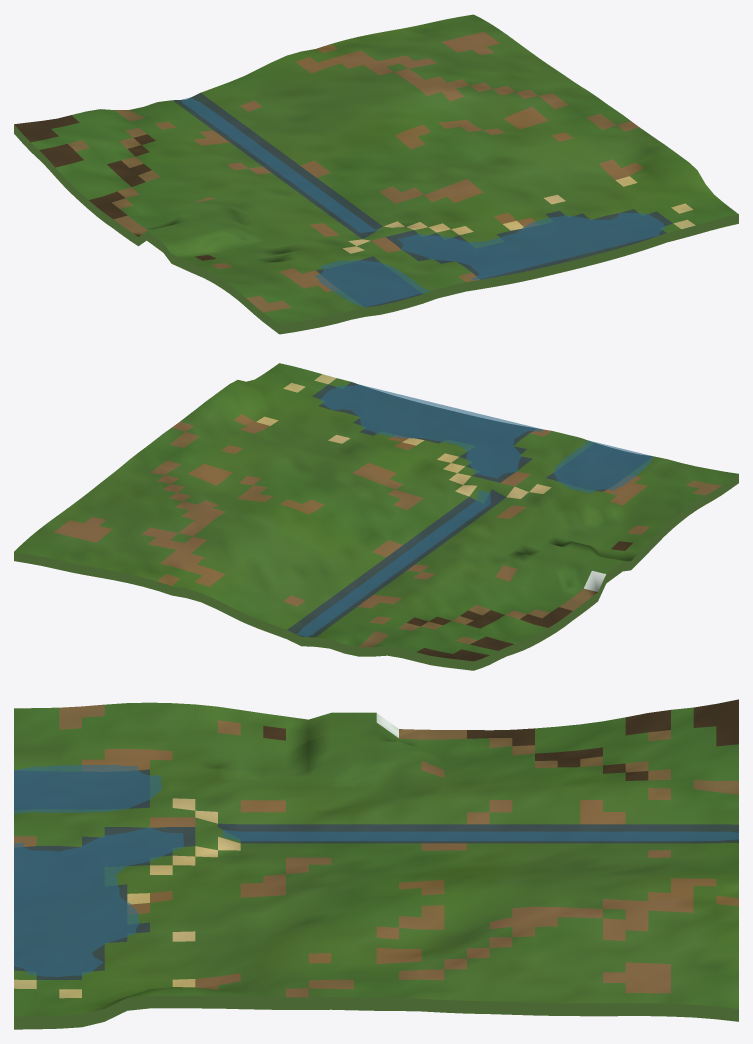
Rendered from chunk_2_6_lod1.glb.
The picture shows the model from 3 angles, top to bottom: view 1: azimuth 30°, elevation 25°; view 2: azimuth 150°, elevation 25°; view 3: azimuth 270°, elevation 25°; orthographic projection. The views are drawn at different scales.
Parts seen in each view (by area): view 1: Surface_Grass, Surface_Water, Water, Surface_Dirt, Skirt, Surface_Mud, Surface_Sand; view 2: Surface_Grass, Surface_Water, Water, Surface_Dirt, Skirt, Surface_Mud, Surface_Sand; view 3: Surface_Grass, Surface_Water, Water, Surface_Dirt, Skirt, Surface_Mud, Surface_Sand.
Part boxes in pixels (x1,y1,x2,y2): Surface_Grass: [31, 14, 738, 324]; Surface_Water: [172, 92, 672, 307]; Water: [181, 97, 666, 307]; Surface_Dirt: [68, 32, 643, 312]; Skirt: [14, 124, 738, 334]; Surface_Mud: [14, 115, 216, 260]; Surface_Sand: [343, 176, 695, 253]; Surface_Grass: [14, 363, 738, 654]; Surface_Water: [287, 382, 651, 637]; Water: [297, 384, 652, 636]; Surface_Dirt: [53, 414, 721, 647]; Skirt: [14, 474, 738, 670]; Surface_Mud: [406, 541, 632, 661]; Surface_Sand: [256, 374, 551, 498]; Surface_Grass: [14, 702, 738, 1016]; Surface_Water: [14, 769, 738, 979]; Water: [14, 765, 738, 976]; Surface_Dirt: [14, 704, 738, 997]; Skirt: [14, 995, 738, 1029]; Surface_Mud: [263, 699, 738, 780]; Surface_Sand: [14, 798, 240, 998].
Size of the model in its own units: 256 by 22.13 by 256.
